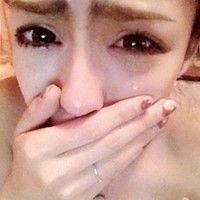face: (9, 1, 183, 146)
